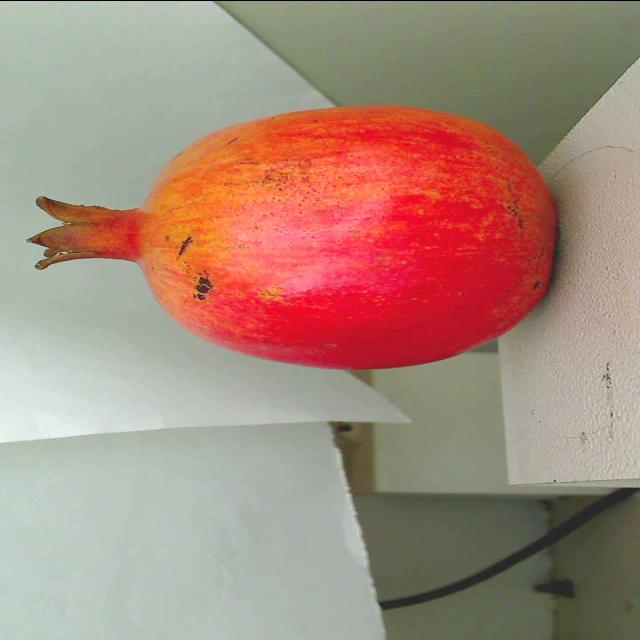pomegranate: (5, 98, 568, 370)
